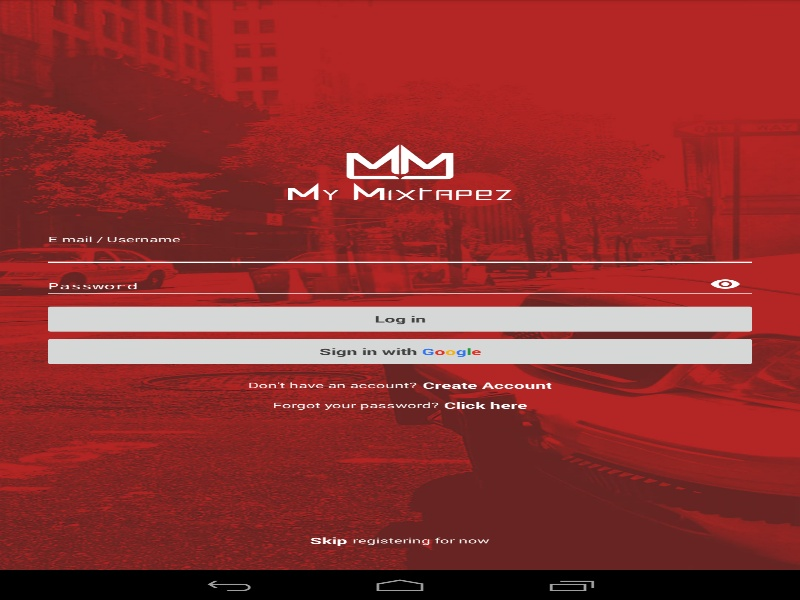Button: (42, 302, 757, 335), (42, 335, 757, 367), (709, 276, 741, 291)
Input: (42, 242, 757, 267), (42, 274, 757, 299)
